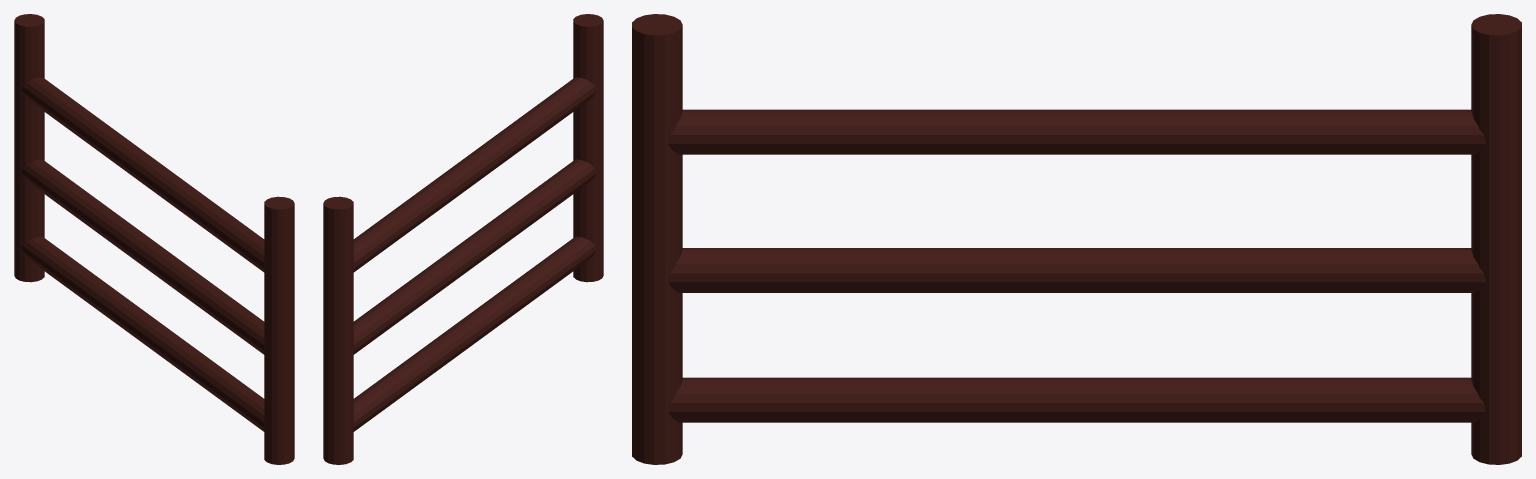
The model's file is Full Fence.fbx.
The picture shows the model from 3 angles, left to right: view 1: azimuth 30°, elevation 25°; view 2: azimuth 150°, elevation 25°; view 3: azimuth 270°, elevation 25°; orthographic projection. The views are drawn at different scales.
Visible parts, largest first — view 1: Full Fence; view 2: Full Fence; view 3: Full Fence.
Boxes of the visible parts, box(x1,y1,x2,y2) form: Full Fence: box(14, 14, 294, 464); Full Fence: box(323, 14, 603, 464); Full Fence: box(632, 14, 1521, 464).
Size of the model in its own units: 75.19 by 701 by 1316.
